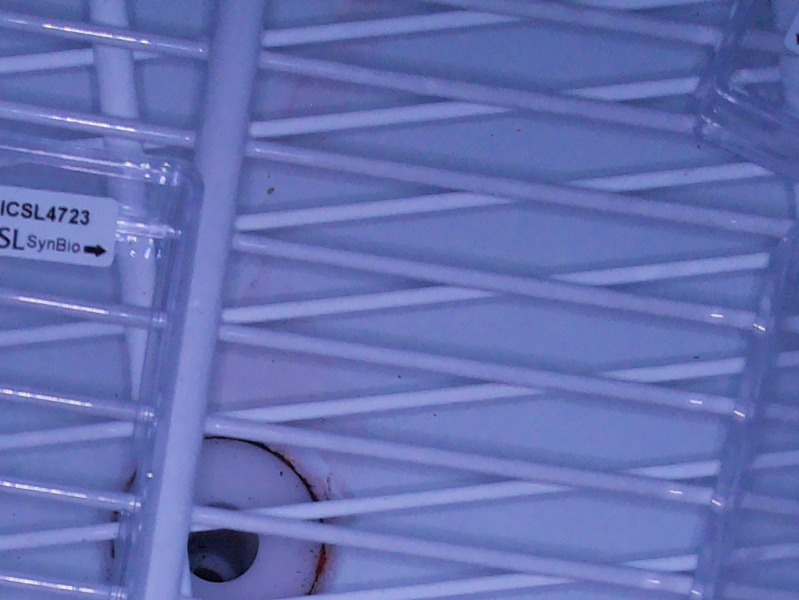plate: (1, 138, 204, 600), (688, 227, 799, 600), (691, 1, 799, 184)
